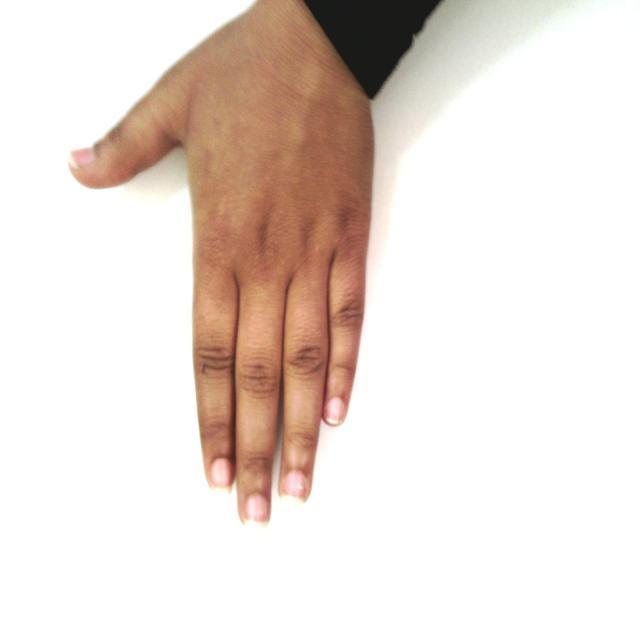Fingernail: (245, 494, 269, 529), (282, 471, 306, 504), (211, 458, 232, 494), (70, 148, 95, 169), (325, 398, 344, 424)
